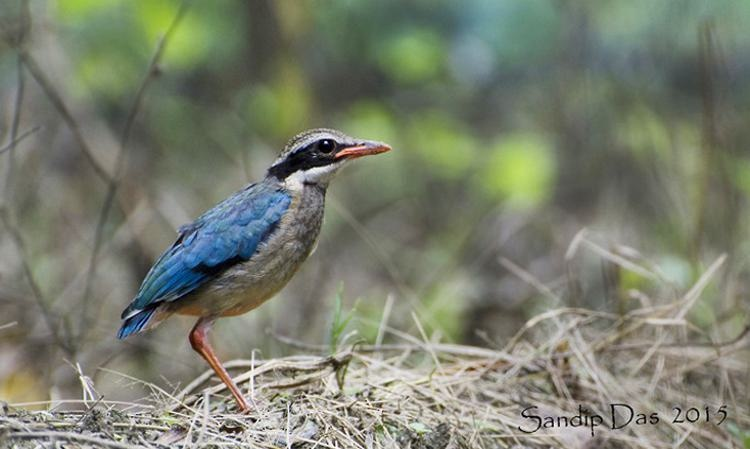pitta: (109, 118, 395, 409)
